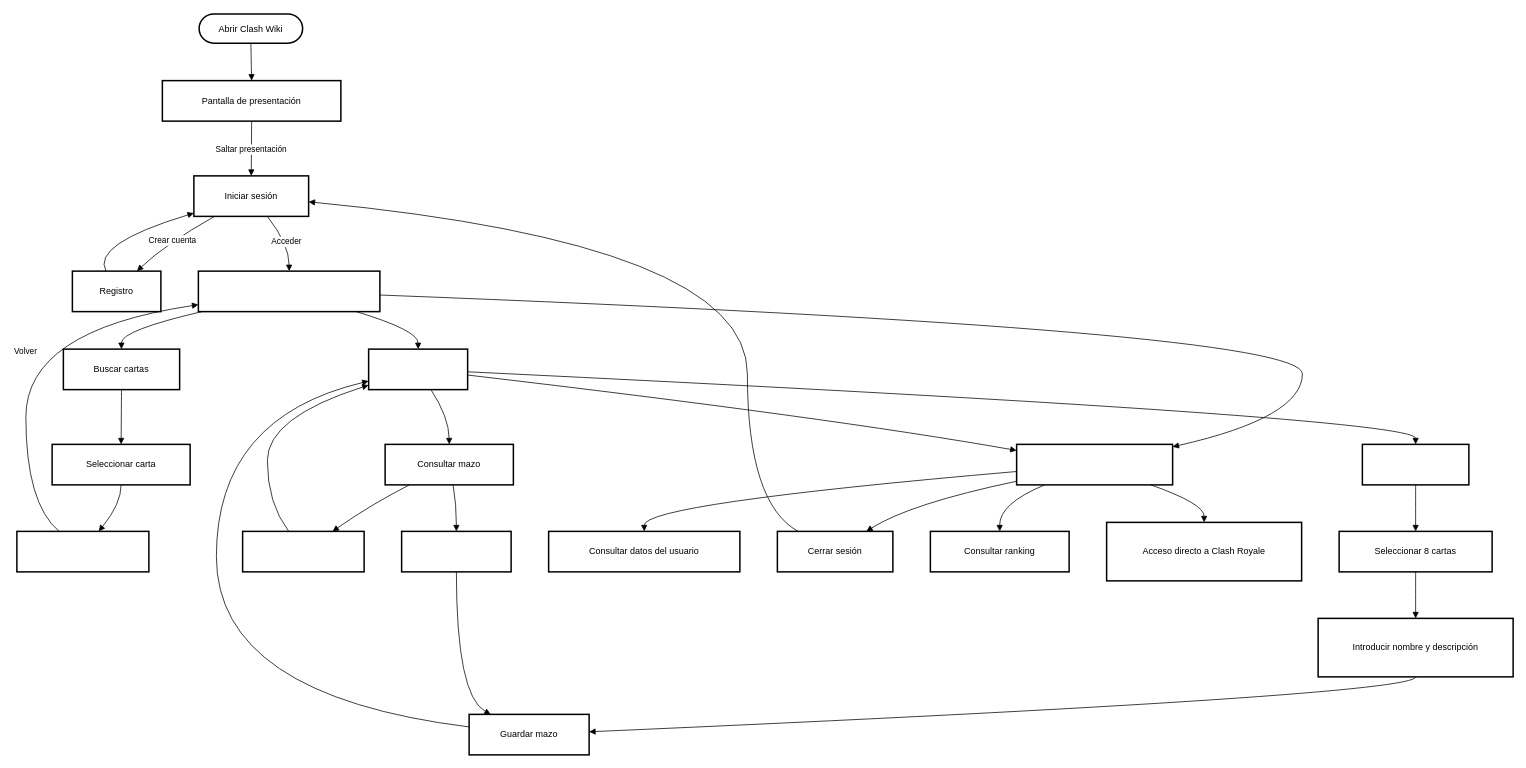
Some shapes in this 1526 by 768 pixel diagram are drawn without their labels. The shapes that lost their labels are listed below. From the top down, each one's centre as x and y in pixels, then its label:
At point 288,291: "Inicio: catálogo de cartas".
At point 418,369: "Mis mazos".
At point 1094,464: "Perfil y menú lateral".
At point 1415,464: "Crear mazo".
At point 82,551: "Detalle de carta".
At point 303,551: "Eliminar mazo".
At point 456,551: "Editar mazo".
